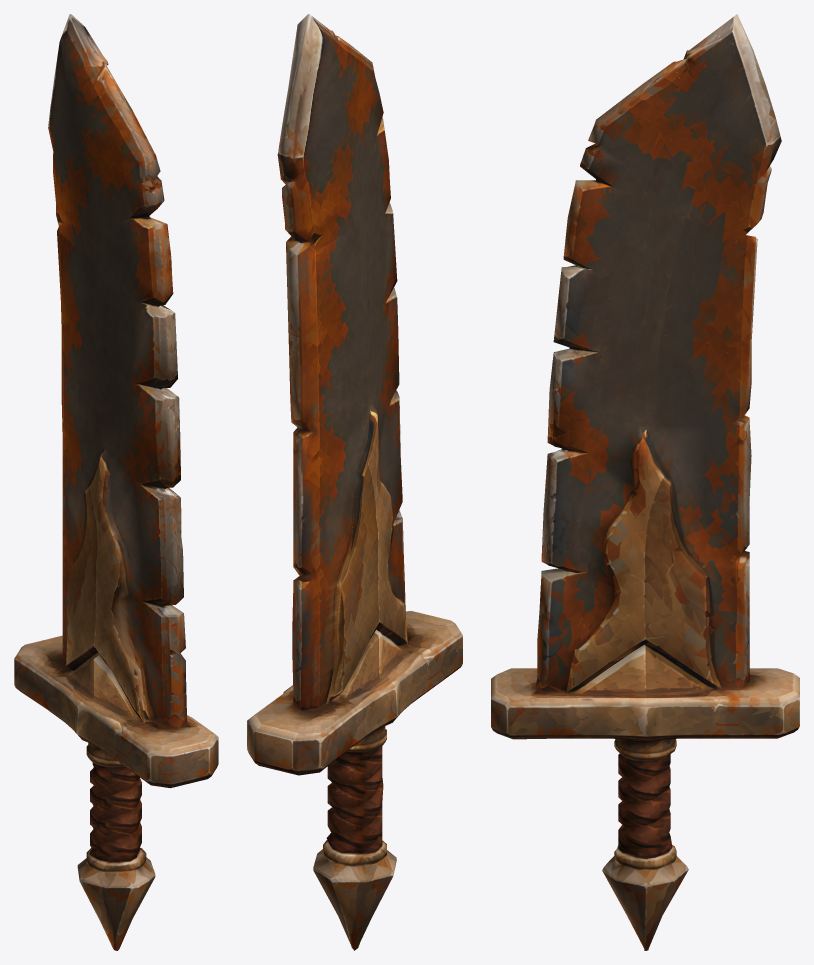
The model's file is RustCleaver_GameReady.glb.
3 renders of one model, left to right at view 1: azimuth 30°, elevation 25°; view 2: azimuth 150°, elevation 25°; view 3: azimuth 270°, elevation 25°, orthographic. The views are drawn at different scales.
Visible parts, largest first — view 1: tripo_node_5be15687-7c86-49d7-86ee-373a12de8ba2; view 2: tripo_node_5be15687-7c86-49d7-86ee-373a12de8ba2; view 3: tripo_node_5be15687-7c86-49d7-86ee-373a12de8ba2.
Boxes of the visible parts, <box> form: tripo_node_5be15687-7c86-49d7-86ee-373a12de8ba2: <box>14,14,218,950</box>; tripo_node_5be15687-7c86-49d7-86ee-373a12de8ba2: <box>247,14,462,950</box>; tripo_node_5be15687-7c86-49d7-86ee-373a12de8ba2: <box>491,14,799,950</box>.
Bounding box in the file's own units: 0.1196 × 1.3 × 0.3892.
1 material, 1 textured.
